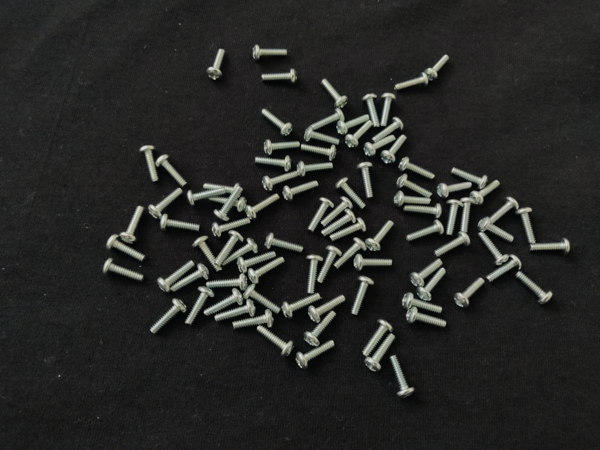shortscrew: (150, 299, 188, 334), (516, 272, 554, 306), (295, 339, 336, 370), (148, 187, 184, 222), (157, 260, 195, 293), (256, 325, 295, 357), (243, 285, 283, 316), (303, 311, 336, 348), (104, 233, 146, 262), (362, 319, 394, 357), (365, 334, 396, 373), (185, 285, 215, 325), (170, 263, 211, 292), (213, 230, 244, 267), (389, 355, 415, 399), (204, 289, 244, 317), (416, 267, 447, 303), (155, 154, 187, 188), (193, 237, 223, 273), (282, 293, 322, 320), (216, 299, 256, 326), (408, 258, 444, 288), (479, 231, 509, 267), (309, 295, 346, 324), (245, 193, 281, 222), (487, 254, 524, 282), (335, 177, 367, 209), (214, 188, 242, 224), (321, 209, 357, 237), (406, 306, 448, 330), (248, 257, 285, 284), (454, 278, 485, 310), (335, 239, 368, 269), (351, 276, 375, 317), (318, 245, 343, 284), (434, 232, 471, 258), (395, 174, 432, 200), (321, 196, 353, 226), (237, 251, 277, 275), (261, 108, 294, 137), (308, 198, 335, 233), (402, 292, 443, 315), (319, 78, 349, 109), (477, 217, 514, 242), (372, 116, 405, 144), (121, 205, 144, 245), (232, 310, 275, 331), (103, 259, 144, 281), (366, 220, 394, 252), (330, 217, 367, 241), (451, 167, 488, 191), (406, 220, 444, 243), (264, 233, 304, 254), (398, 157, 436, 179), (212, 217, 251, 238), (261, 170, 298, 192), (470, 181, 501, 207), (363, 134, 396, 158), (159, 215, 202, 233), (516, 208, 537, 244), (381, 135, 407, 164), (312, 109, 347, 130), (140, 145, 159, 183), (302, 143, 338, 163), (336, 114, 370, 135), (207, 274, 249, 291), (529, 238, 571, 255), (306, 255, 324, 294), (492, 197, 519, 223), (362, 93, 381, 129), (394, 191, 432, 209), (437, 181, 473, 200), (187, 189, 227, 206), (425, 54, 450, 81), (205, 49, 226, 81), (357, 162, 375, 199), (263, 139, 302, 156), (354, 255, 393, 272), (395, 71, 428, 91), (209, 196, 247, 213), (304, 128, 339, 146), (256, 155, 292, 172), (378, 93, 396, 126), (252, 45, 289, 60), (203, 184, 242, 198), (261, 68, 297, 83), (404, 203, 442, 217)
